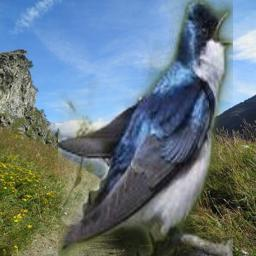Swallow: (58, 0, 233, 256)
